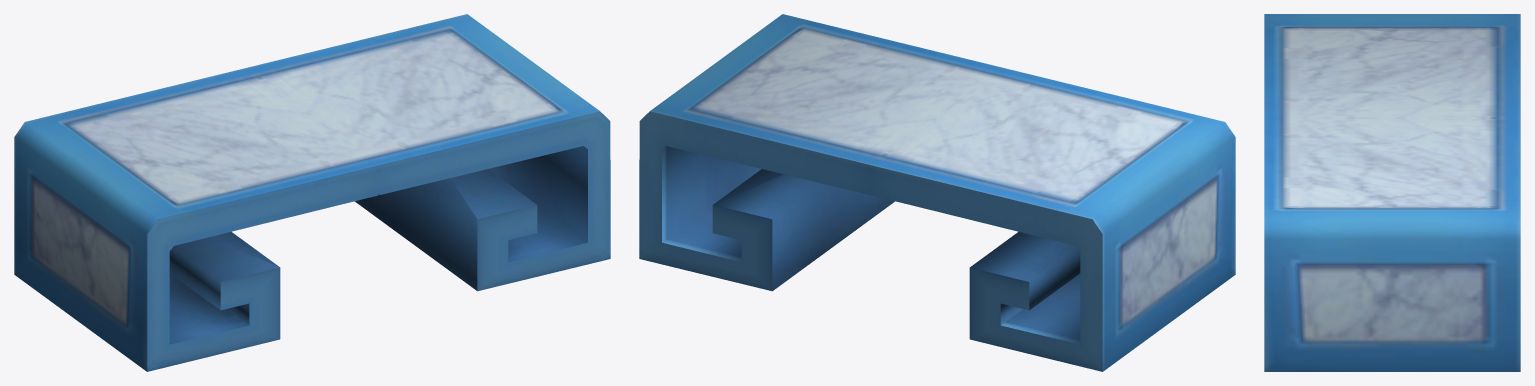
The model's file is furni_0200504.FBX.
3 views of the same model, side by side, from view 1: azimuth 30°, elevation 25°; view 2: azimuth 150°, elevation 25°; view 3: azimuth 270°, elevation 25° (orthographic). The views are drawn at different scales.
Parts seen in each view (by area): view 1: furni_0200504; view 2: furni_0200504; view 3: furni_0200504.
Part boxes in pixels (box(x1,y1,x2,y2)): furni_0200504: box(14, 14, 610, 371); furni_0200504: box(639, 14, 1235, 371); furni_0200504: box(1264, 14, 1520, 371).
Size of the model in its own units: 160 by 49.56 by 79.39.
Materials: 1 (1 with a texture image).
